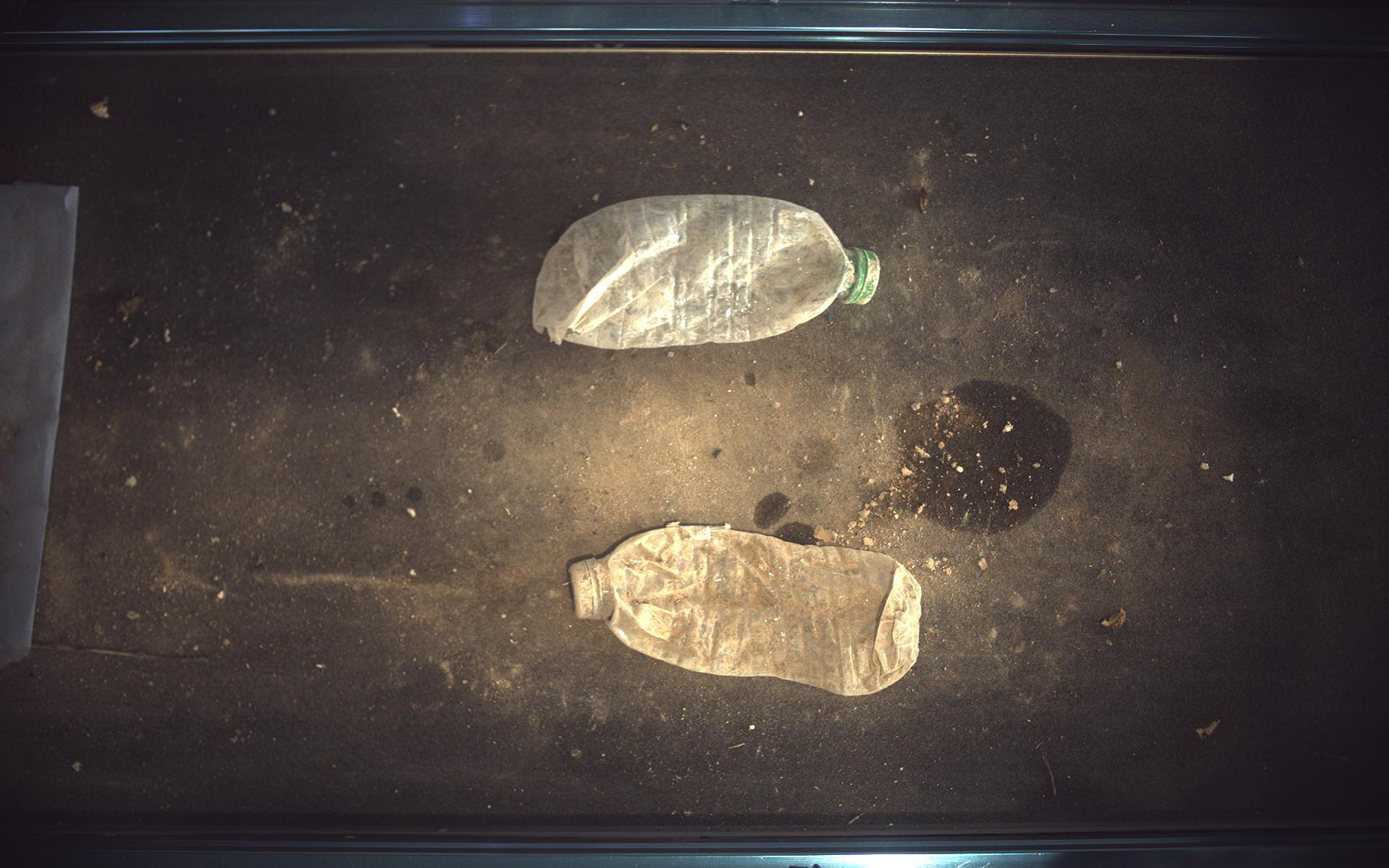general_w: (570, 523, 924, 697)
